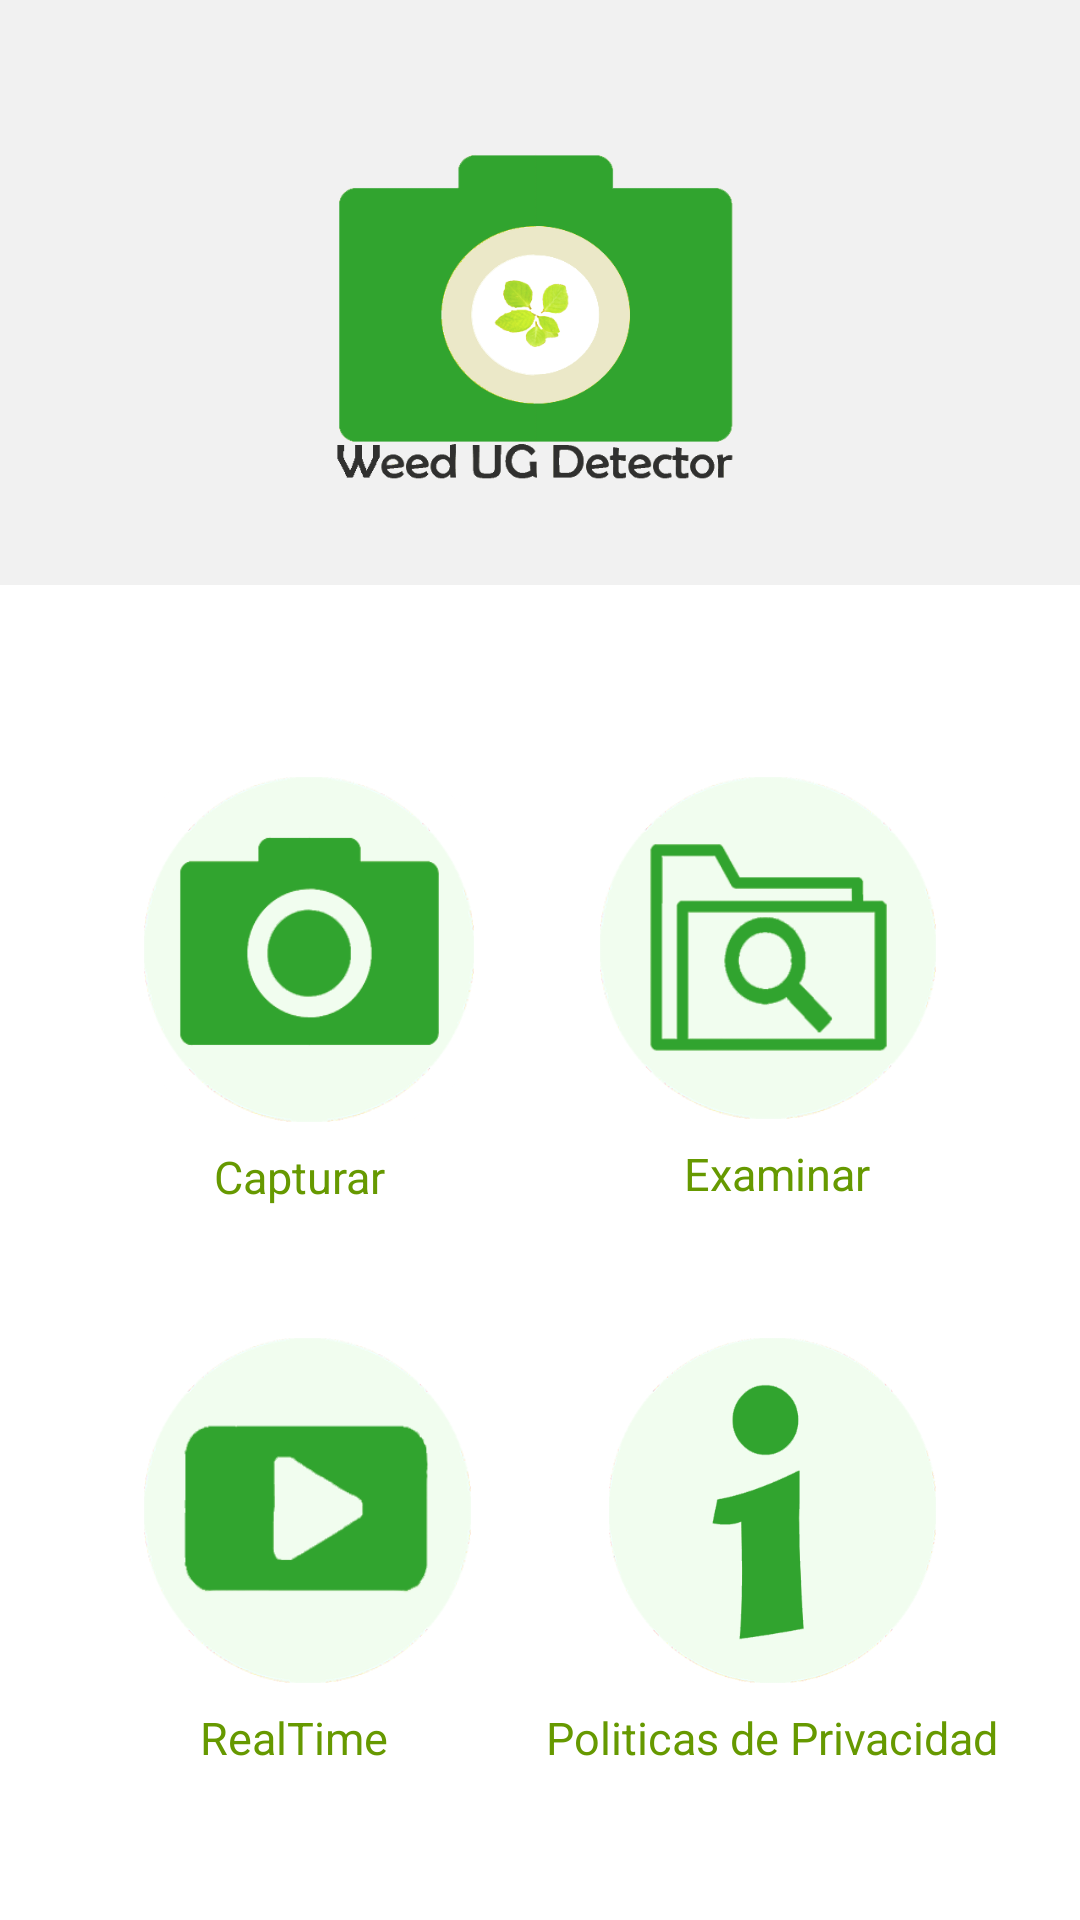

Locate icon controls on the screen. Image size 1080 × 1920, boxes as rect(x1, y1, x2, y2).
info: rect(609, 1338, 936, 1683)
video: rect(144, 1338, 471, 1683)
